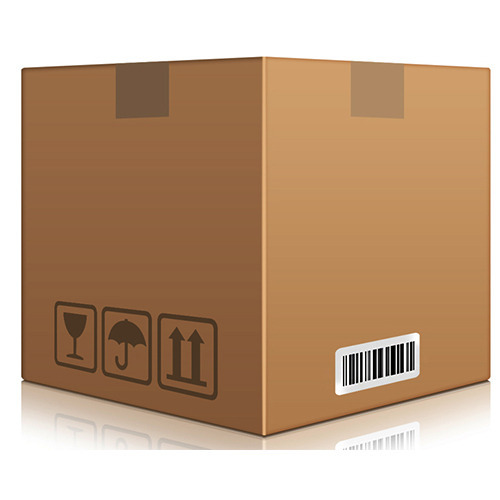Rec_Paper: (14, 49, 500, 437)
